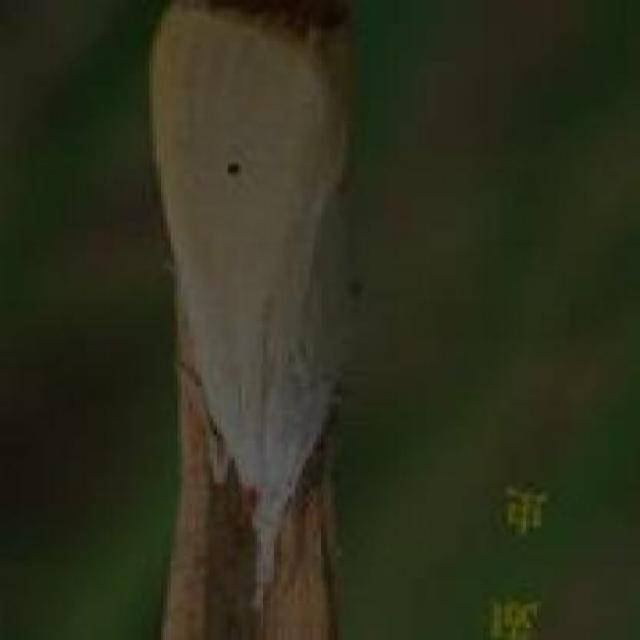stem-borer: (145, 0, 363, 620)
